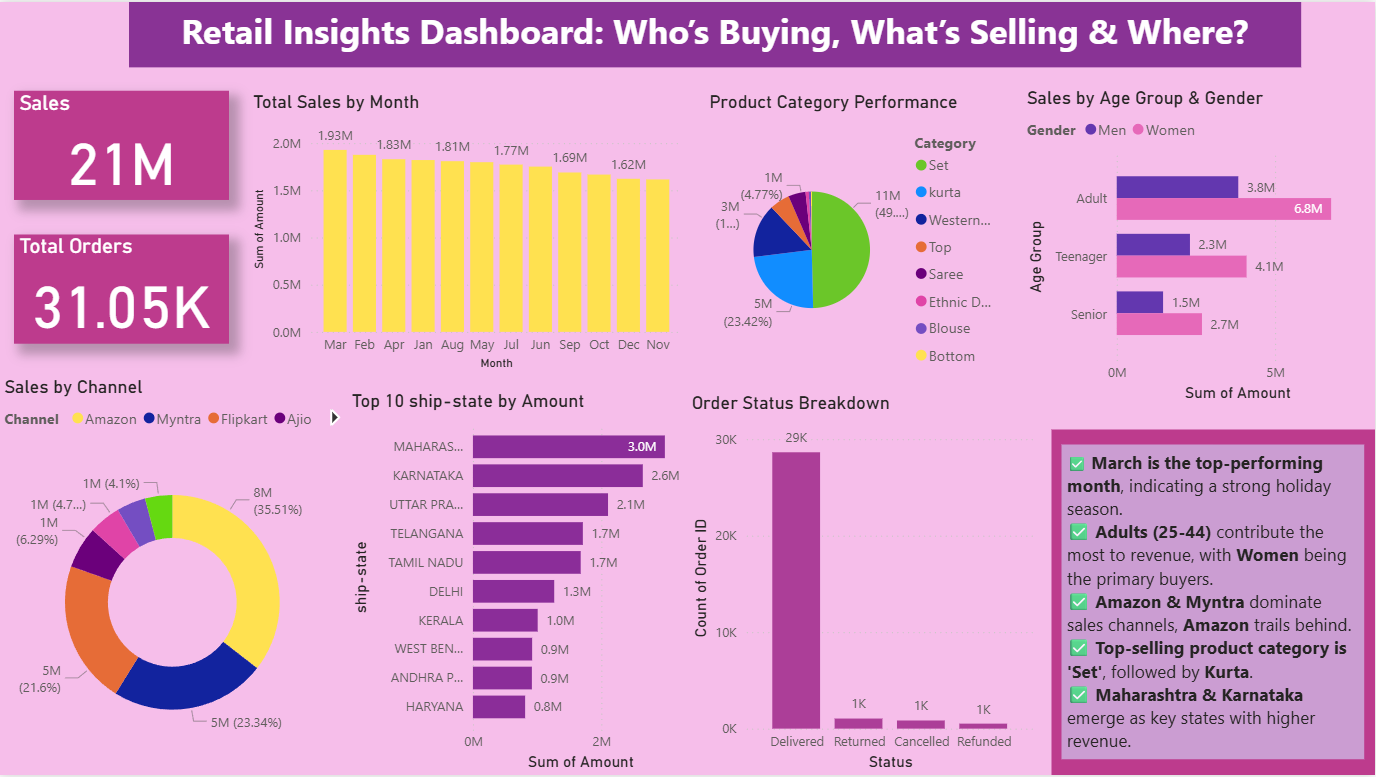

The dashboard page shown, as its layout file describes it:
{"tool":"powerbi","page":{"name":"Page 1","canvas":[1280,720],"ordinal":0},"visuals":[{"type":"textbox","box":[121.2,0,1090.5,60.6],"z":0},{"type":"clusteredColumnChart","title":"Total Sales by Month","fields":{"Category":["Sheet1.Month"],"Y":["Sum(Sheet1.Amount)"]},"box":[231.4,82.9,408.6,264.3],"z":1000},{"type":"clusteredBarChart","title":"Sales by Age Group & Gender","fields":{"Series":["Sheet1.Gender"],"Y":["Sum(Sheet1.Amount)"],"Category":["Sheet1.Age Group"]},"box":[951.4,78.6,328.6,297.1],"z":2000},{"type":"donutChart","title":"Sales by Channel","fields":{"Category":["Sheet1.Channel "],"Y":["Sum(Sheet1.Amount)"]},"box":[0,347.1,322.9,372.9],"z":3000},{"type":"pieChart","title":" Product Category Performance","fields":{"Category":["Sheet1.Category"],"Y":["Sum(Sheet1.Amount)"]},"box":[655.7,82.9,282.9,277.1],"z":4000},{"type":"clusteredColumnChart","title":"Order Status Breakdown","fields":{"Category":["Sheet1.Status"],"Y":["CountNonNull(Sheet1.Order ID)"]},"box":[640,362.9,328.6,357.1],"z":5000},{"type":"barChart","title":"Top 10 ship-state by Amount","fields":{"Category":["Sheet1.ship-state"],"Y":["Sum(Sheet1.Amount)"]},"box":[322.9,360,332.9,360],"z":6000},{"type":"card","title":"Total Orders","fields":{"Values":["CountNonNull(Sheet1.Order ID)"]},"box":[14.3,215.7,200,101.4],"z":7000},{"type":"card","title":"Sales ","fields":{"Values":["Sum(Sheet1.Amount)"]},"box":[14.3,82.9,200,101.4],"z":8000},{"type":"shape","box":[978.6,397.1,301.4,322.9],"z":8500},{"type":"textbox","box":[988.6,411.4,281.4,292.9],"z":9000},{"type":"actionButton","box":[0,0,100,40],"z":11000}]}

Visuals, with their boxes in screenshot pixels (x1, y1, x2, y2), scaled from the page's 1280x720 canvas onto the 1376x777 screenshot:
textbox: pyautogui.locateOnScreen(130, 0, 1303, 65)
"Total Sales by Month" clusteredColumnChart: pyautogui.locateOnScreen(249, 89, 688, 375)
"Sales by Age Group & Gender" clusteredBarChart: pyautogui.locateOnScreen(1023, 85, 1375, 405)
"Sales by Channel" donutChart: pyautogui.locateOnScreen(0, 375, 347, 776)
" Product Category Performance" pieChart: pyautogui.locateOnScreen(705, 89, 1009, 388)
"Order Status Breakdown" clusteredColumnChart: pyautogui.locateOnScreen(688, 392, 1041, 776)
"Top 10 ship-state by Amount" barChart: pyautogui.locateOnScreen(347, 388, 705, 776)
"Total Orders" card: pyautogui.locateOnScreen(15, 233, 230, 342)
"Sales " card: pyautogui.locateOnScreen(15, 89, 230, 199)
shape: pyautogui.locateOnScreen(1052, 429, 1375, 776)
textbox: pyautogui.locateOnScreen(1063, 444, 1365, 760)
actionButton: pyautogui.locateOnScreen(0, 0, 108, 43)
